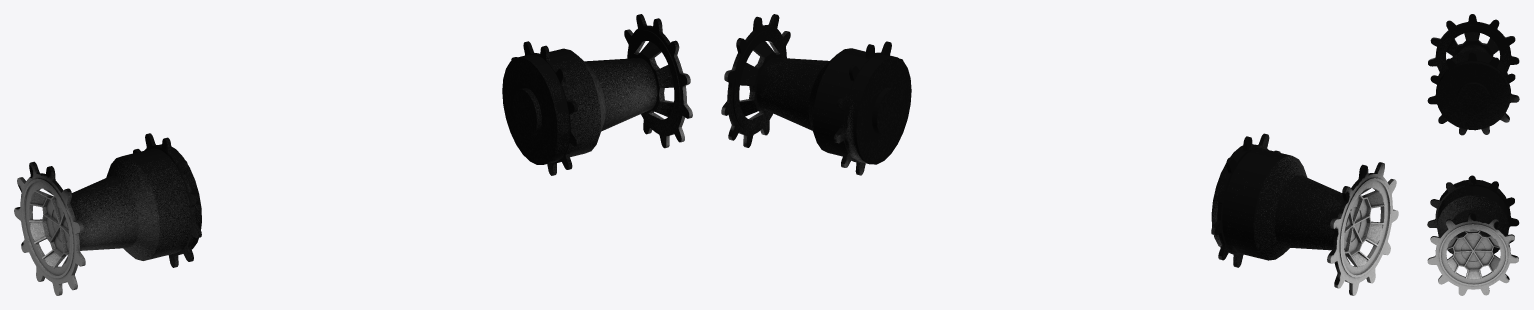
Rendered from Leopard_2A6rear.fbx.
3 renders of one model, left to right at view 1: azimuth 30°, elevation 25°; view 2: azimuth 150°, elevation 25°; view 3: azimuth 270°, elevation 25°, orthographic. The views are drawn at different scales.
Visible parts, largest first — view 1: Tube02.001; view 2: Tube02.001; view 3: Tube02.001.
Part boxes in pixels (x1=…): Tube02.001: x1=14, y1=14, x2=692, y2=295; Tube02.001: x1=721, y1=14, x2=1398, y2=295; Tube02.001: x1=1427, y1=14, x2=1519, y2=295.
Size of the model in its own units: 762 by 147 by 148.
